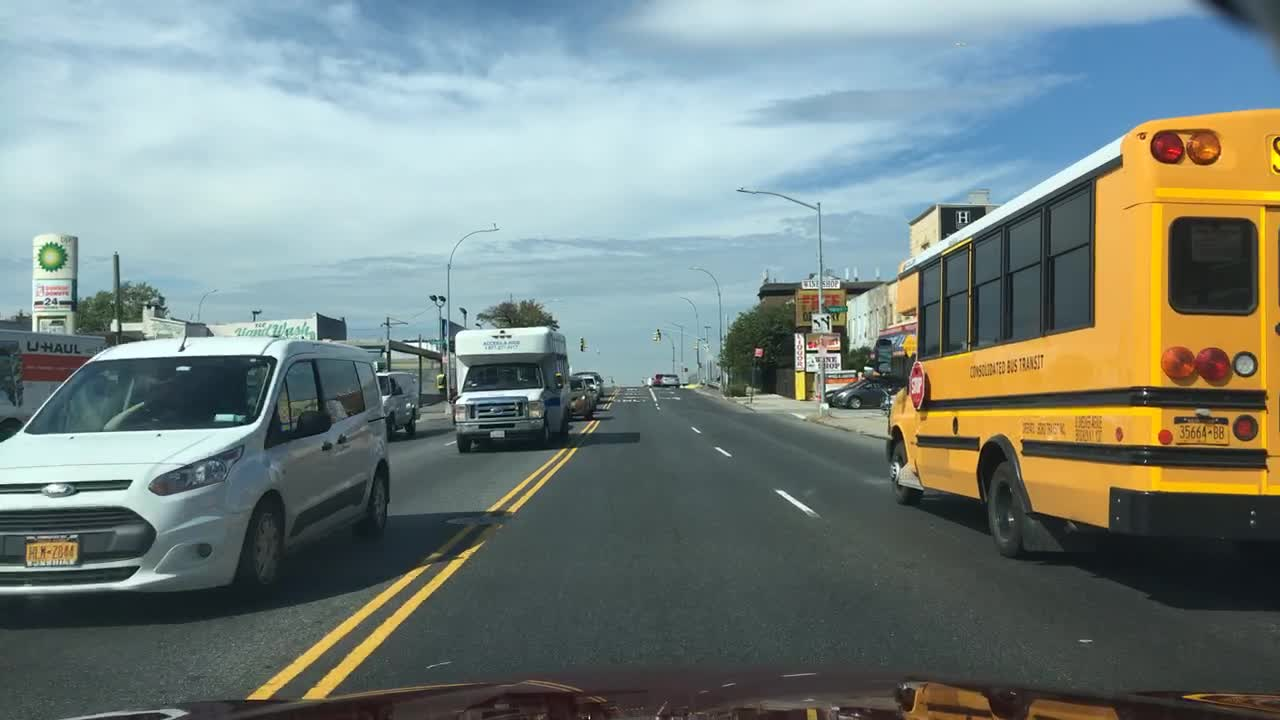bus: (877, 107, 1279, 559), (1, 336, 114, 441)
car: (0, 336, 389, 601), (375, 370, 419, 438), (833, 381, 889, 413), (564, 373, 594, 422), (583, 368, 602, 402), (821, 388, 855, 406), (660, 373, 680, 388), (651, 371, 664, 388), (646, 372, 651, 387)
traffic sign: (813, 313, 833, 333), (825, 301, 847, 313), (753, 346, 764, 358)
truck: (451, 326, 569, 451)
